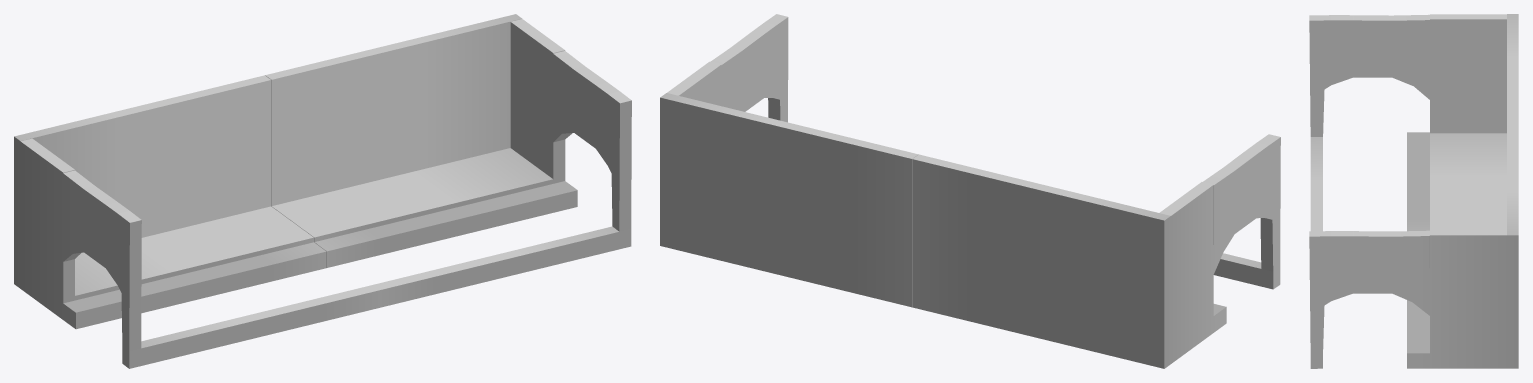
File: TrainStation.fbx
The picture shows the model from 3 angles, left to right: view 1: azimuth 30°, elevation 25°; view 2: azimuth 150°, elevation 25°; view 3: azimuth 270°, elevation 25°; orthographic projection. The views are drawn at different scales.
Visible parts, largest first — view 1: pasted__pCube1; view 2: pasted__pCube1; view 3: pasted__pCube1.
Boxes of the visible parts, left/top/right/bottom form: pasted__pCube1: left=14, top=14, right=631, bottom=368; pasted__pCube1: left=660, top=14, right=1280, bottom=368; pasted__pCube1: left=1309, top=14, right=1518, bottom=368.
Size of the model in its own units: 31.52 by 8.89 by 12.6.
1 material, 1 textured.
